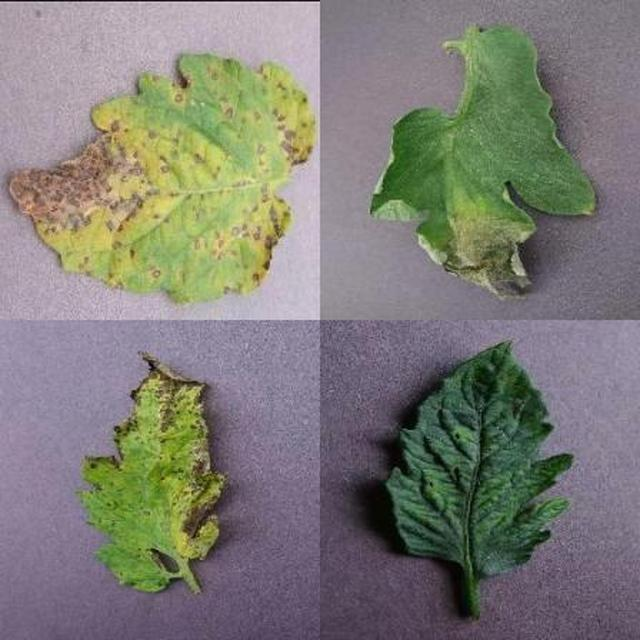Septoria Leaf: (201, 236, 640, 640)
